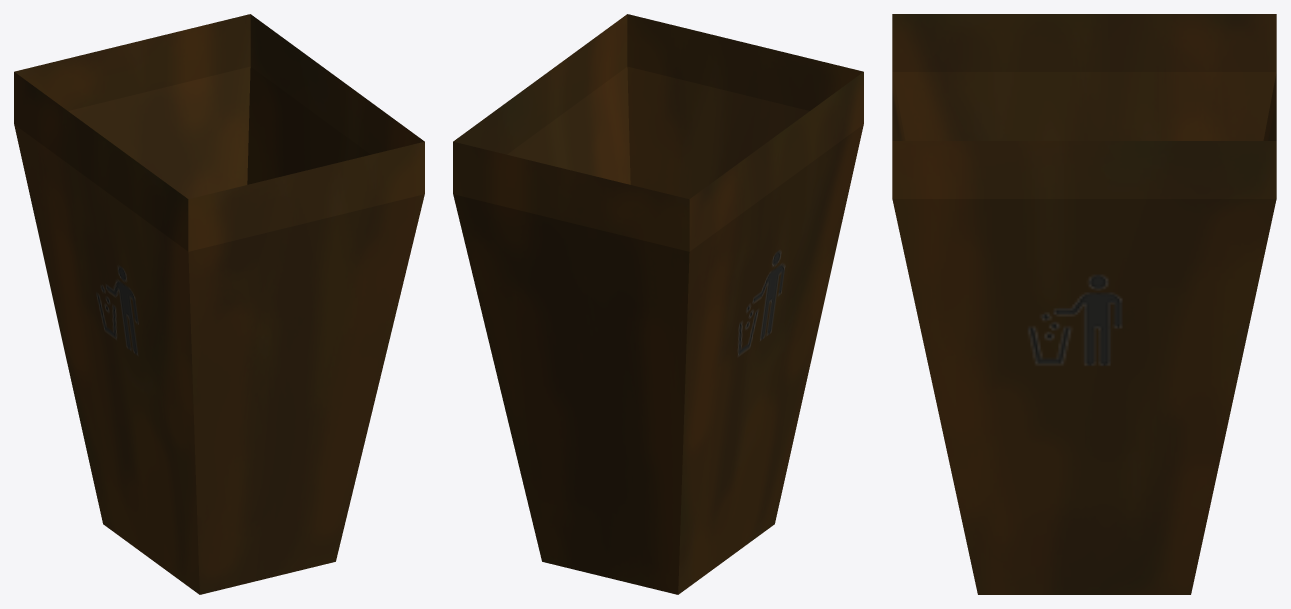
The model's file is trash-bin.gltf.
3 views of the same model, side by side, from view 1: azimuth 30°, elevation 25°; view 2: azimuth 150°, elevation 25°; view 3: azimuth 270°, elevation 25° (orthographic). The views are drawn at different scales.
Parts seen in each view (by area): view 1: Cube, Cube.001; view 2: Cube, Cube.001; view 3: Cube, Cube.001.
Boxes of the visible parts, x1=… form: Cube: x1=14, y1=72, x2=424, y2=594; Cube.001: x1=14, y1=14, x2=424, y2=199; Cube: x1=453, y1=72, x2=863, y2=594; Cube.001: x1=453, y1=14, x2=863, y2=199; Cube: x1=892, y1=141, x2=1276, y2=594; Cube.001: x1=892, y1=14, x2=1276, y2=140.
Size of the model in its own units: 1.11 by 1.95 by 1.42.
Materials: 1 (1 with a texture image).
